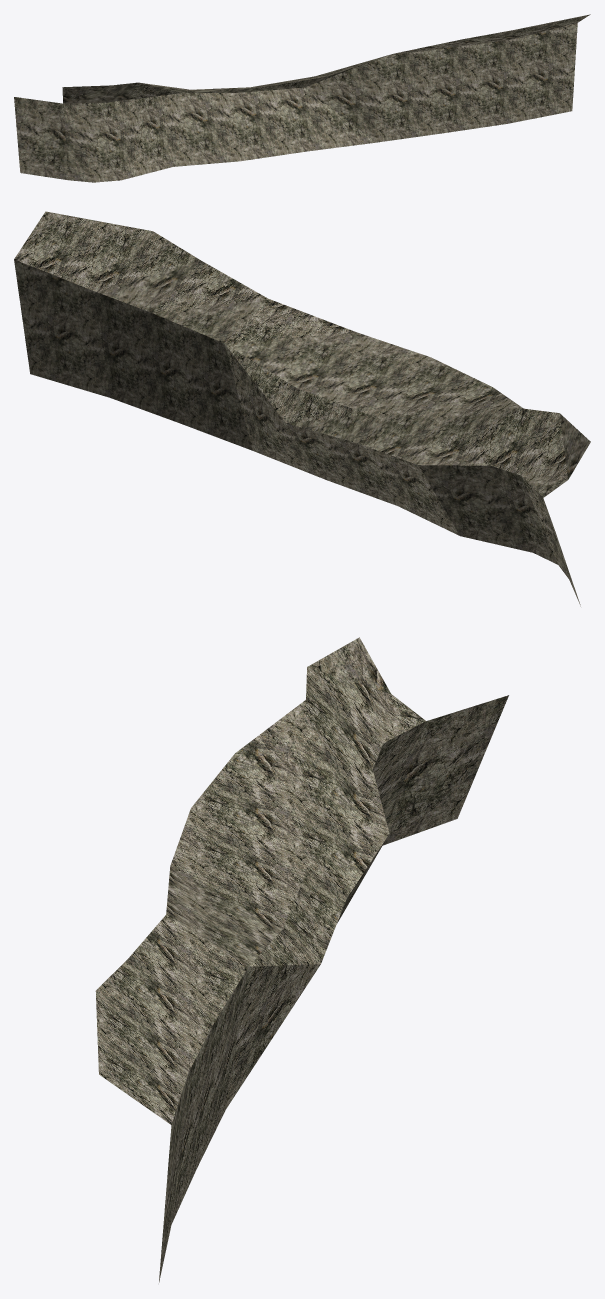
The model's file is cegroundtp103a.obj.
3 renders of one model, top to bottom at view 1: azimuth 30°, elevation 25°; view 2: azimuth 150°, elevation 25°; view 3: azimuth 270°, elevation 25°, orthographic. The views are drawn at different scales.
Parts seen in each view (by area): view 1: CEgroundTP103A; view 2: CEgroundTP103A; view 3: CEgroundTP103A.
Part boxes in pixels (bbox=[...]): CEgroundTP103A: bbox=[14, 14, 590, 182]; CEgroundTP103A: bbox=[14, 211, 590, 606]; CEgroundTP103A: bbox=[95, 637, 508, 1282].
Size of the model in its own units: 229 by 49.94 by 84.37.
1 material, 1 textured.
